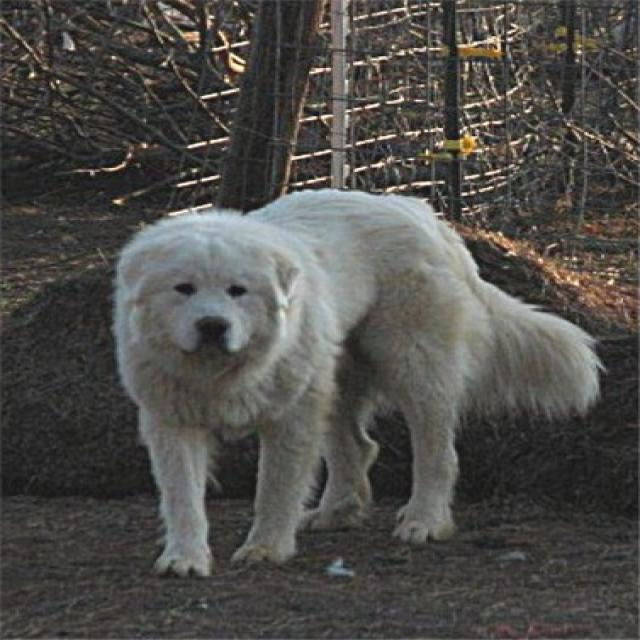dog-great_pyrenees: (102, 175, 609, 592)
